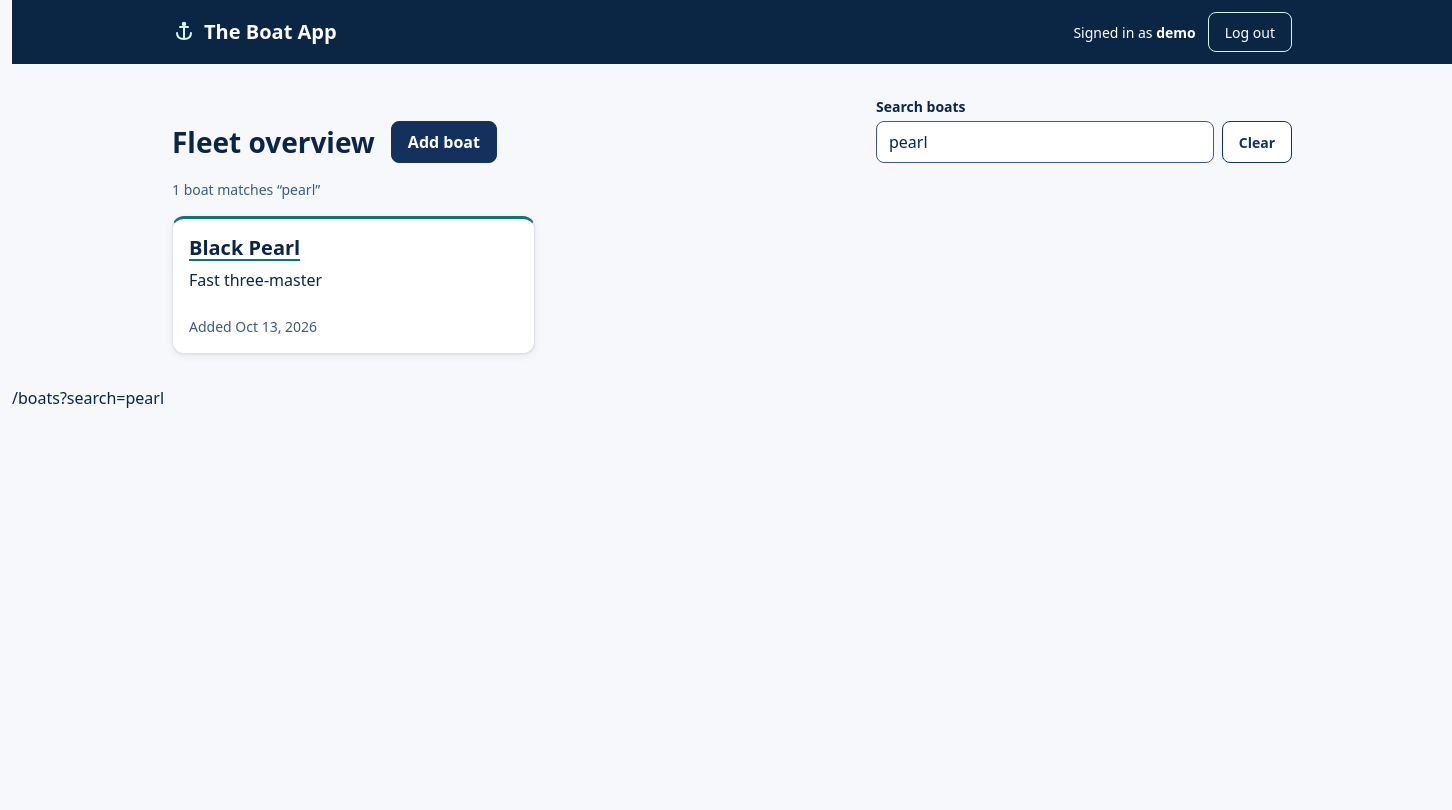
Test: DeleteBoat › deletes with an authenticated request and returns to the same fleet search
Click the link "Black Pearl" at (245, 248), box x1=189 y1=234 x2=300 y2=261
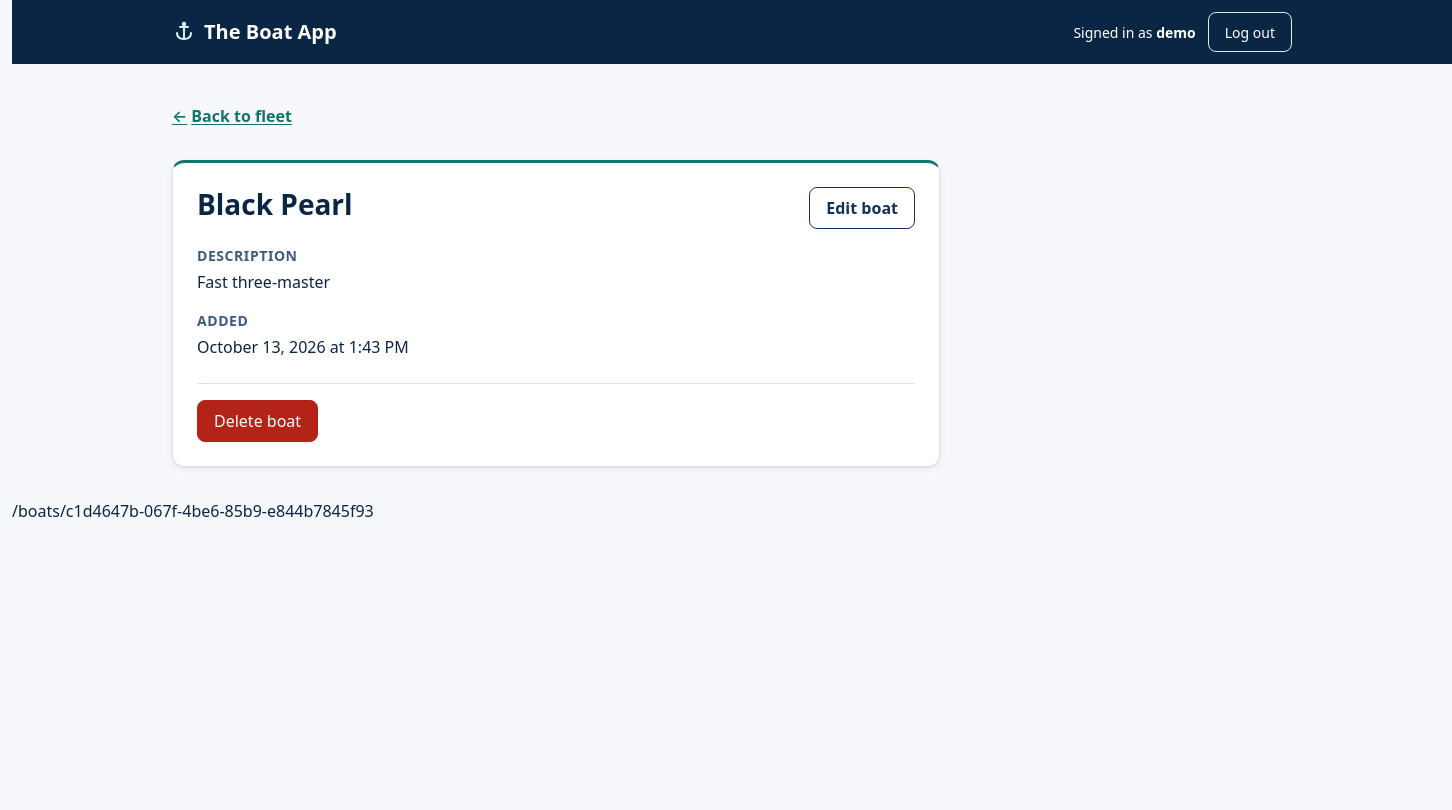
Click the button "Delete boat" at (258, 421), box x1=197 y1=400 x2=318 y2=442
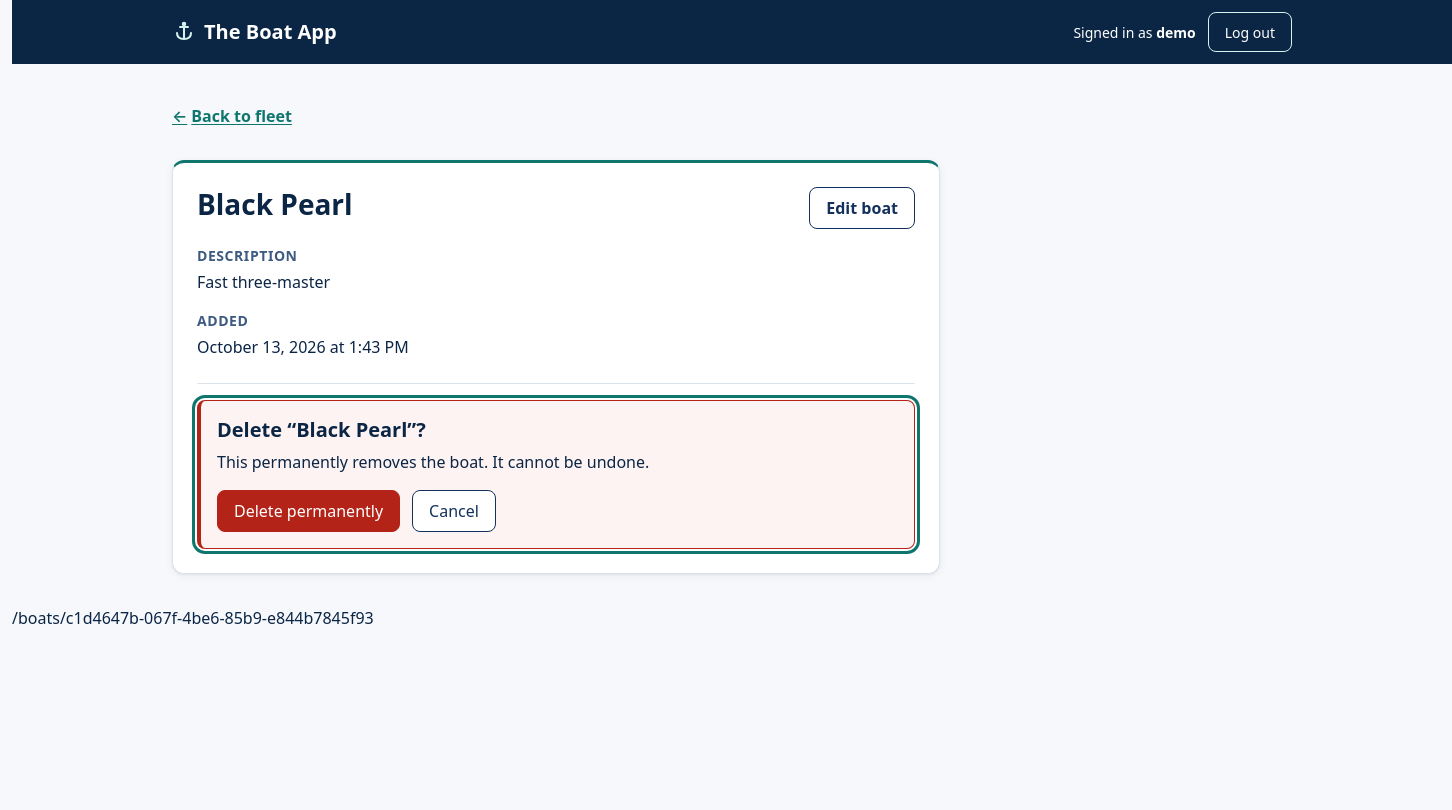
Click the button "Delete permanently" at (309, 511), box x1=217 y1=490 x2=400 y2=532
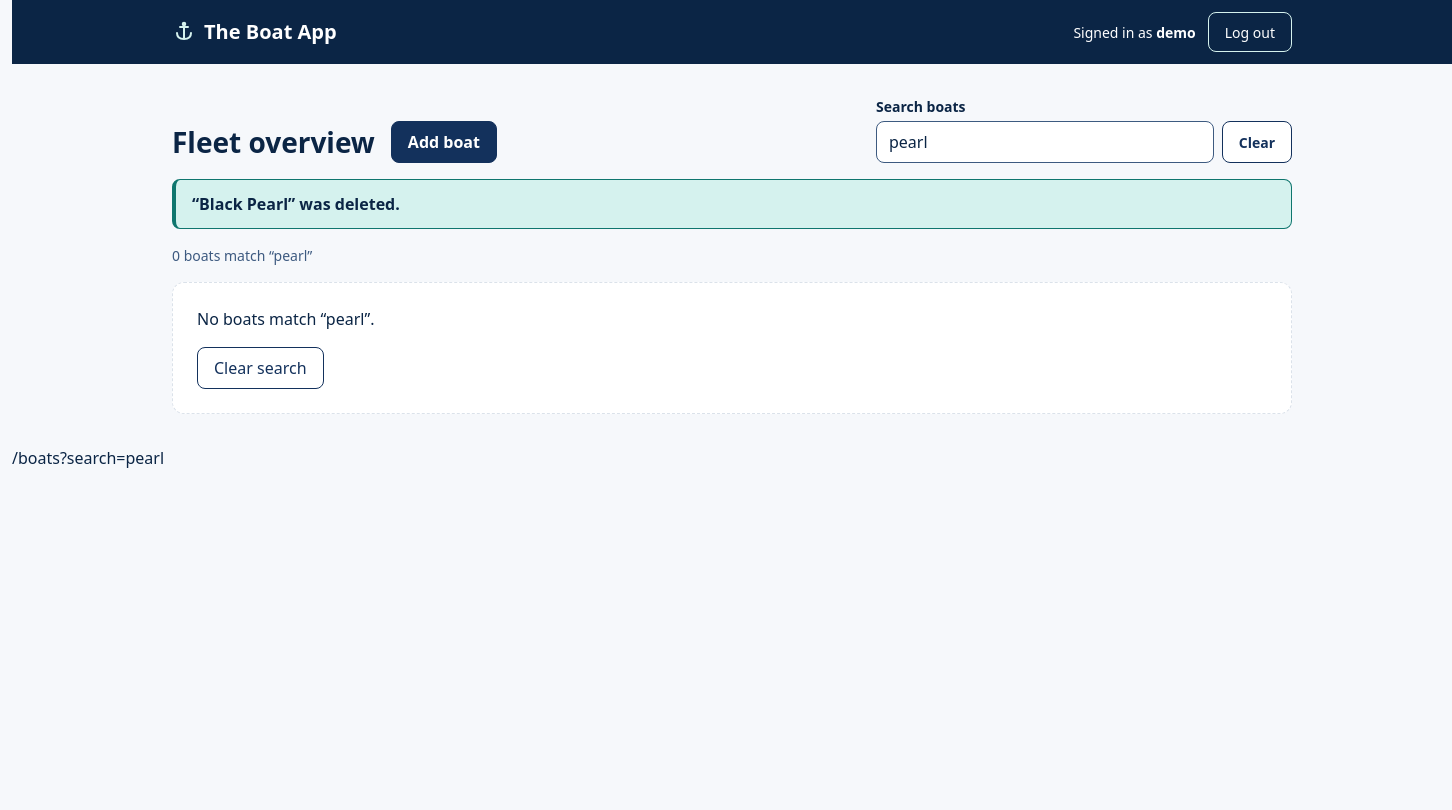
Expected: the text with test id "location" reads "/boats?search=pearl", x1=12 y1=447 x2=164 y2=469
Expected: the text "No boats match “pearl”." is shown, x1=197 y1=308 x2=374 y2=330
